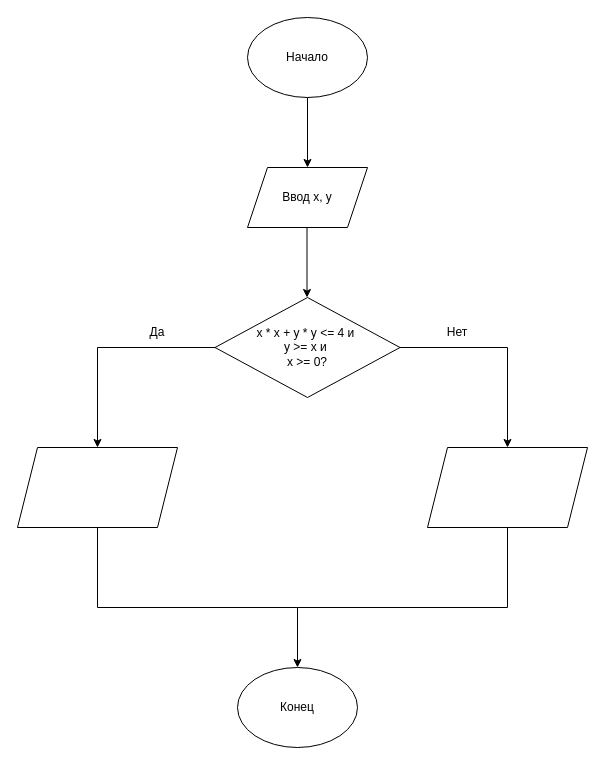
The diagram is 605 pixels wide and 765 high, and some of its shapes have lost their labels. Each missing label, with the centre of its shape:
Вывод: «Точка не принадлежит заданной области»: pixel 507 487
Вывод: «Точка принадлежит заданной области»: pixel 97 487
